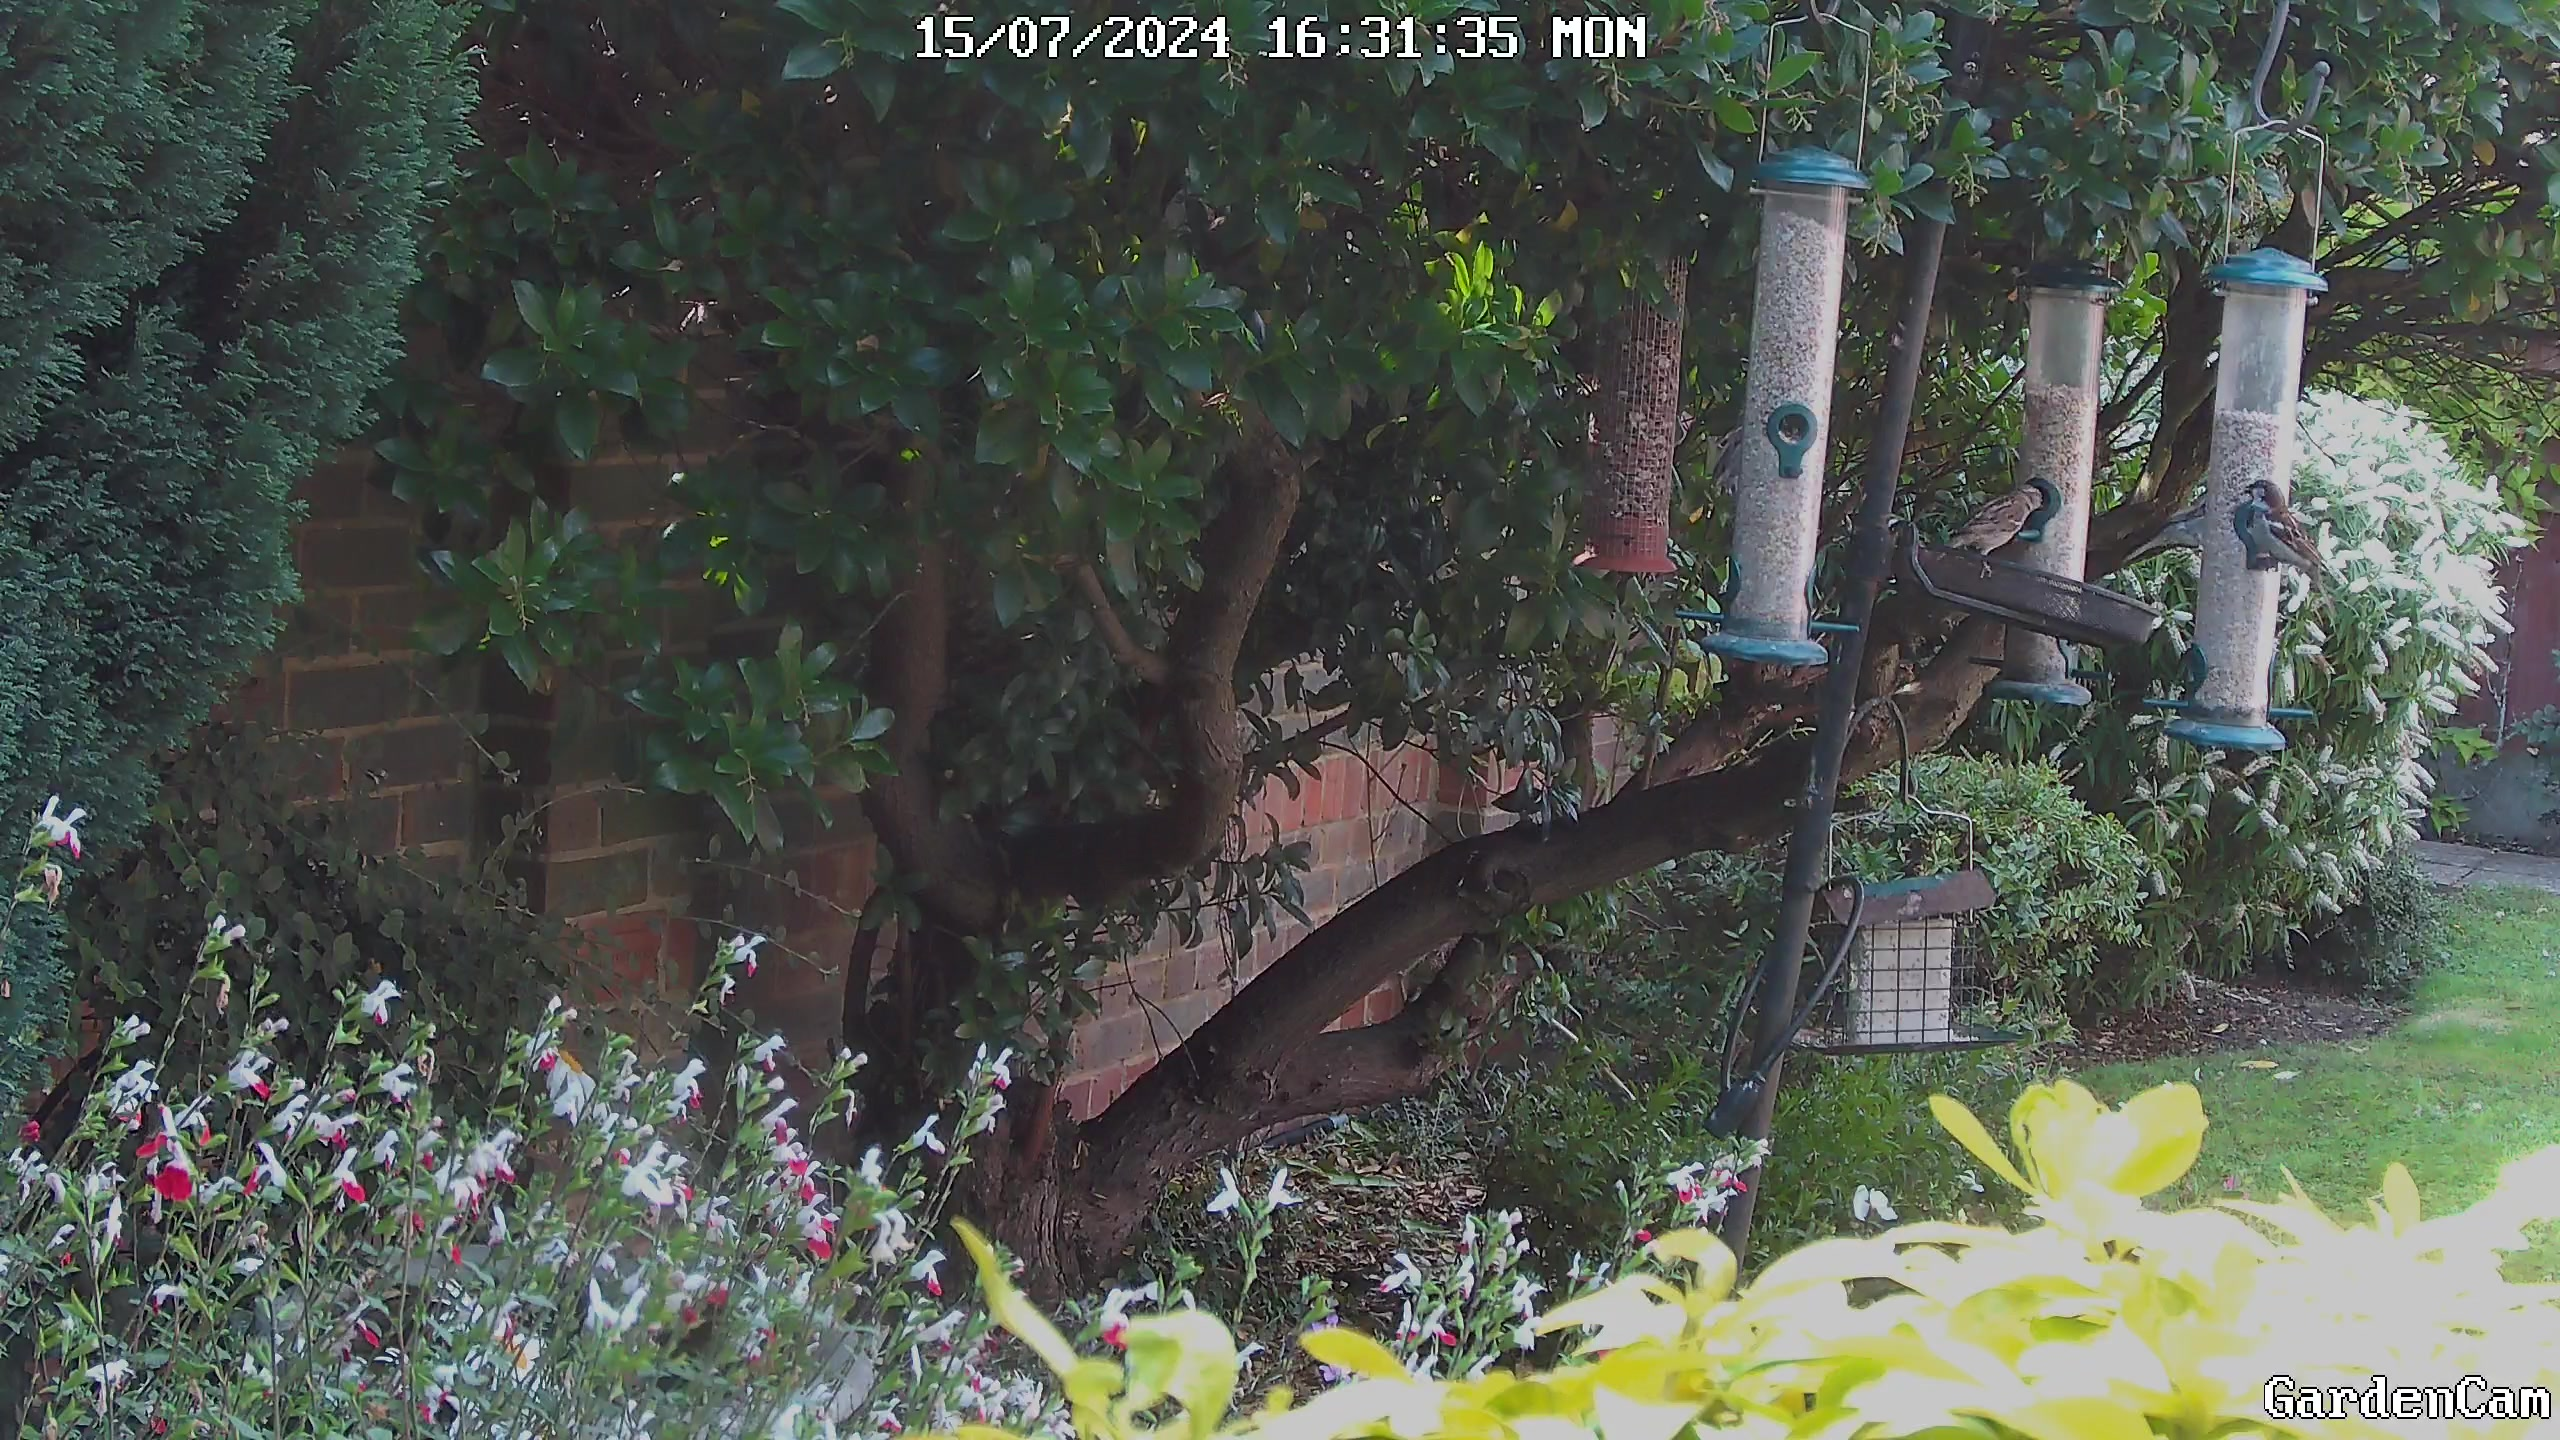House_Sparrow: (2217, 461, 2365, 624), (1936, 476, 2041, 571)
